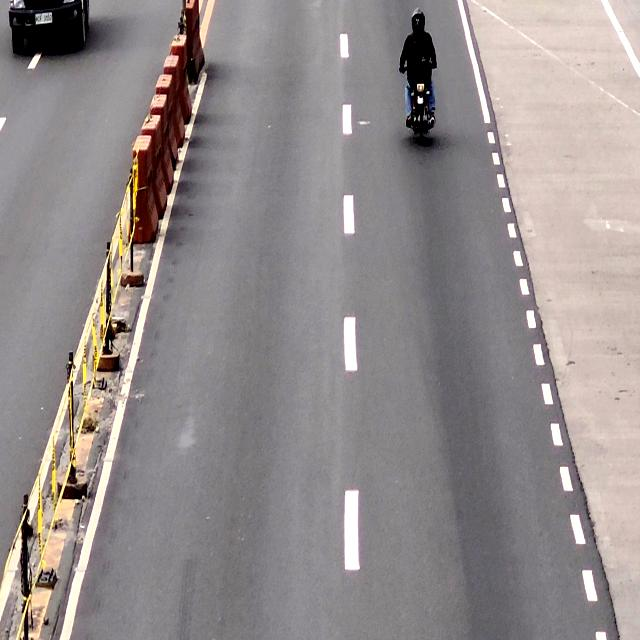Motorcycle: (400, 55, 437, 145)
